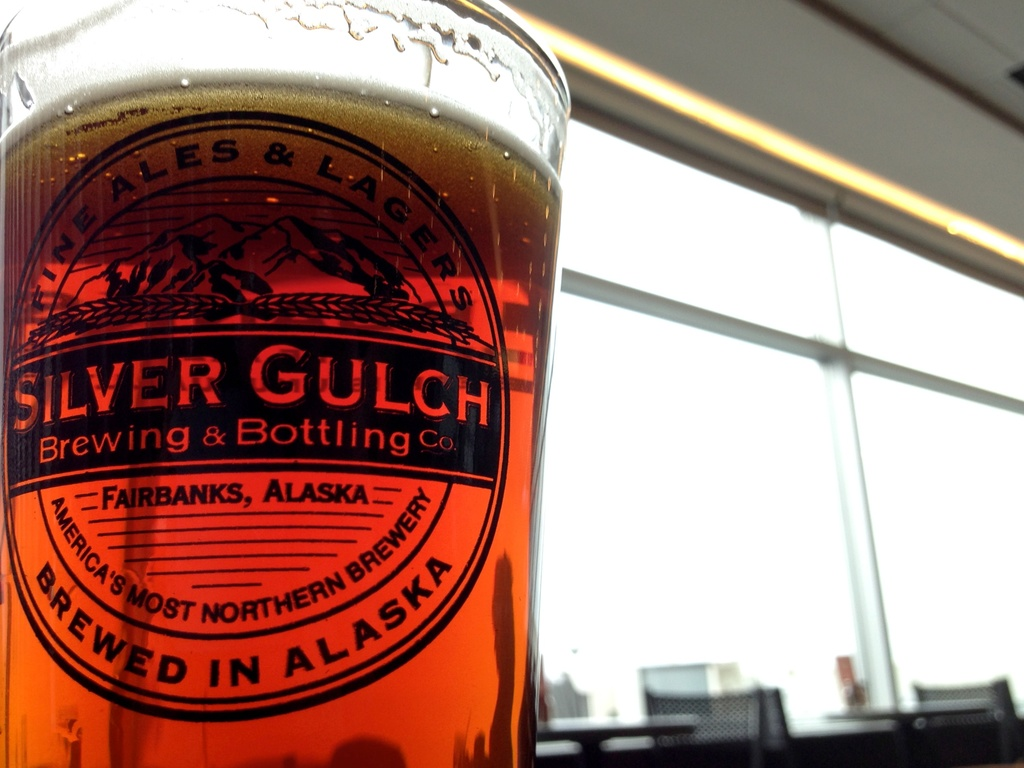Beer: (0, 67, 557, 757)
